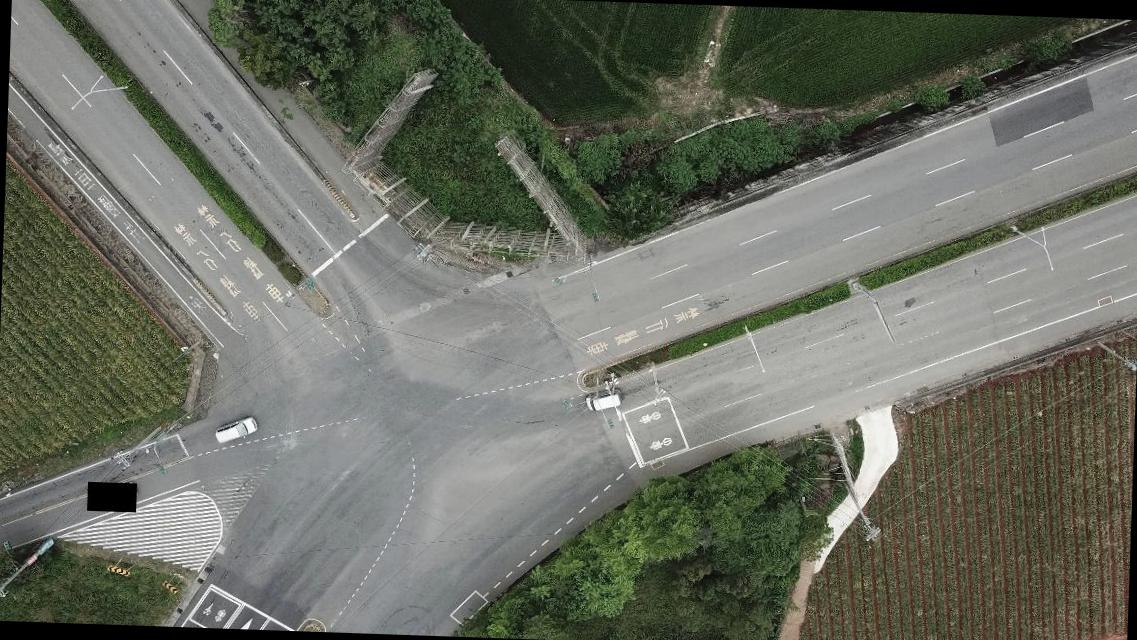vehicle: (214, 416, 258, 444), (584, 389, 622, 412)
